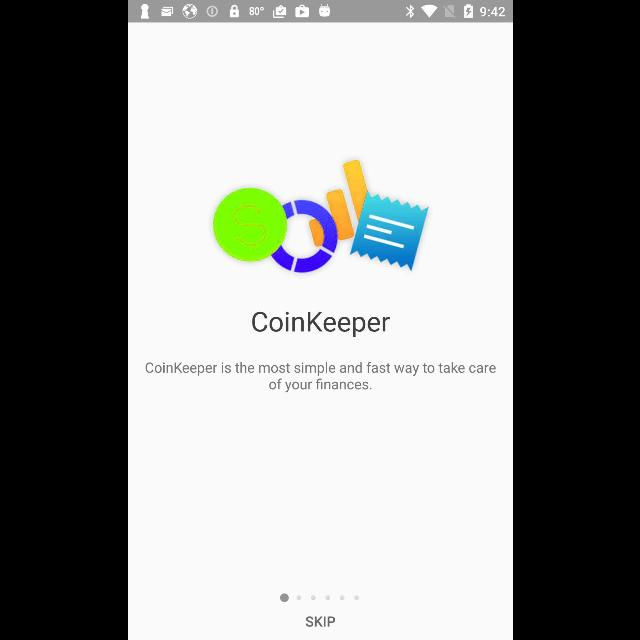image: (211, 160, 429, 274)
pageindicator: (279, 593, 359, 603)
text: (144, 361, 496, 393), (250, 310, 390, 338), (305, 616, 335, 628)
uppertaskbar: (128, 1, 512, 23)
